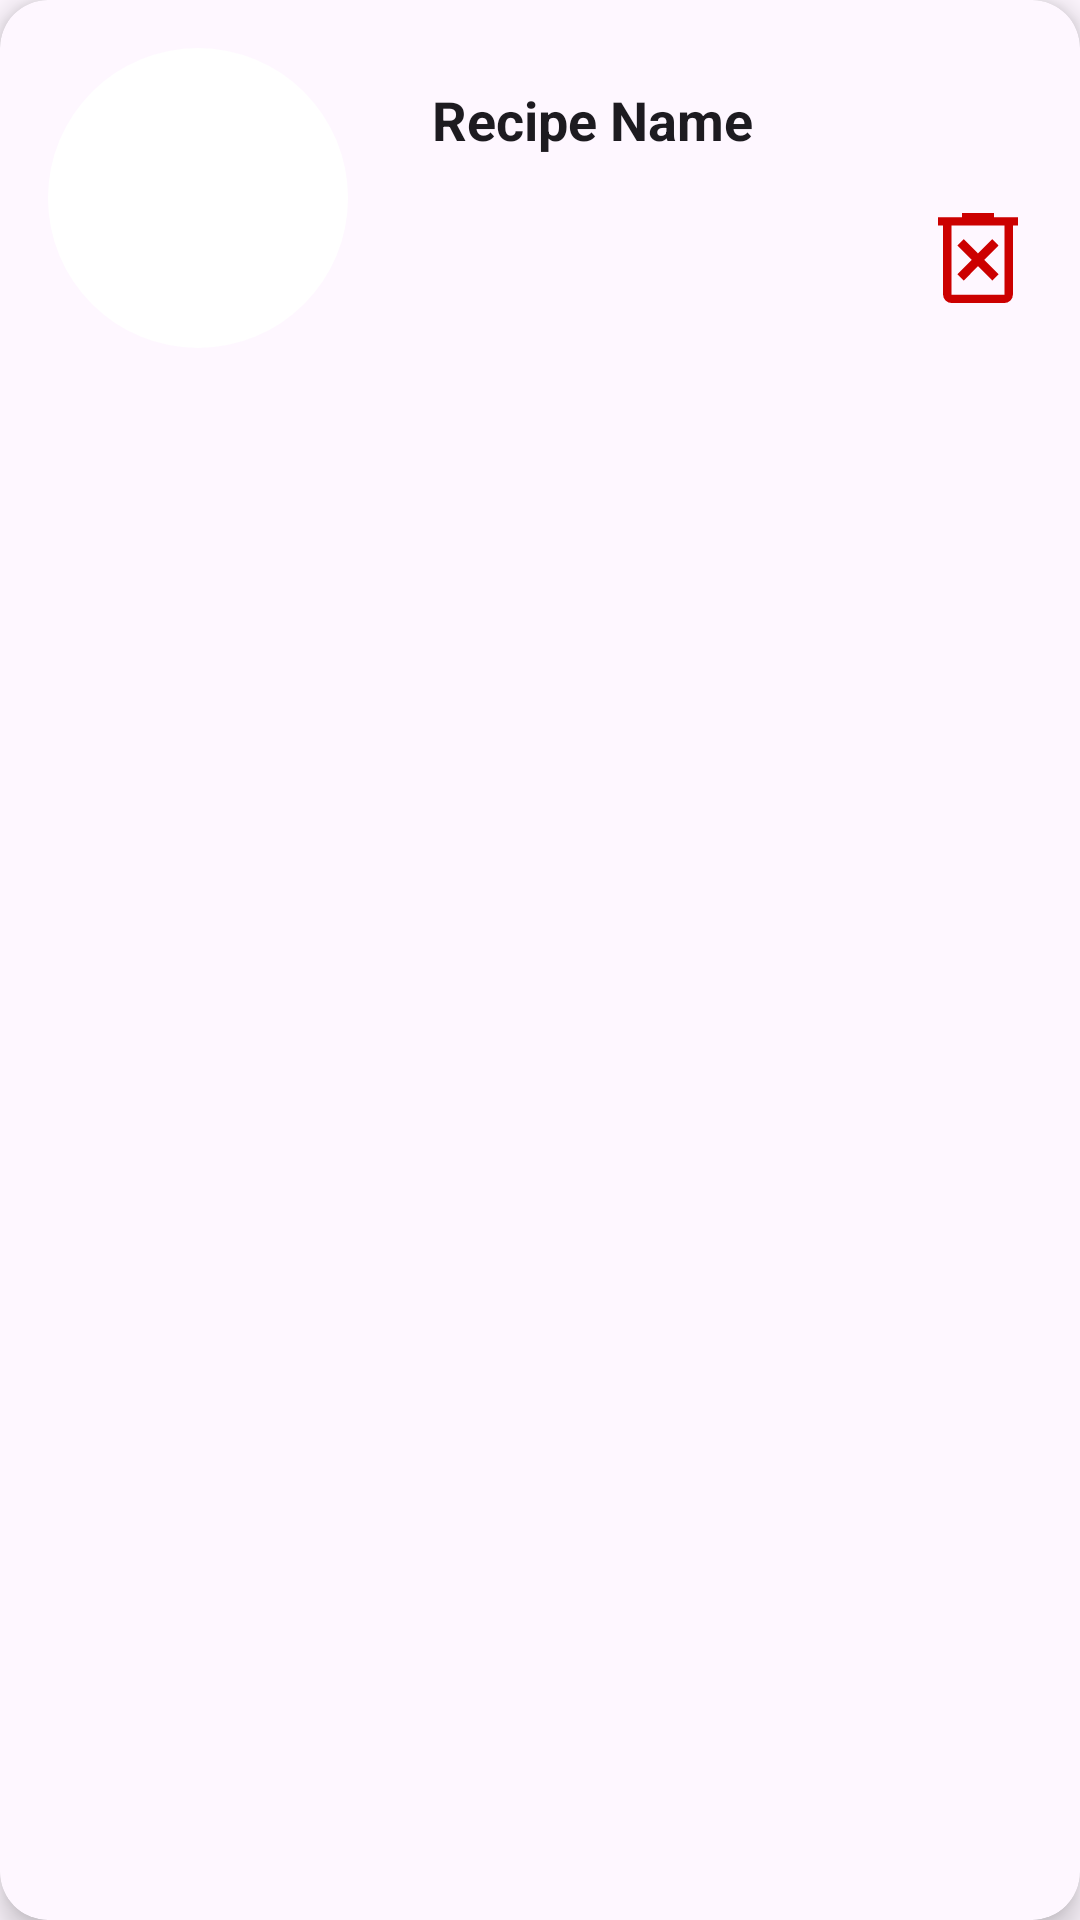

Point at icon controls on the screen. Image size 1080w x 1920h, points as (x,y).
Remove From Favorites: (978,258)
